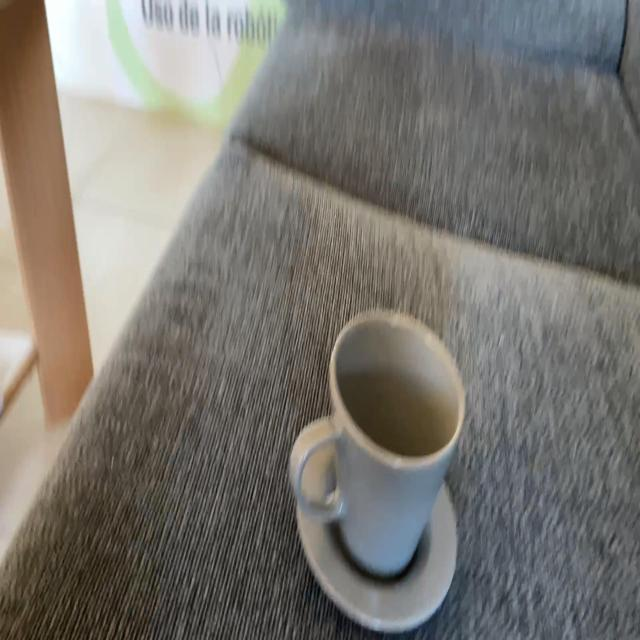cup: (290, 308, 466, 584)
